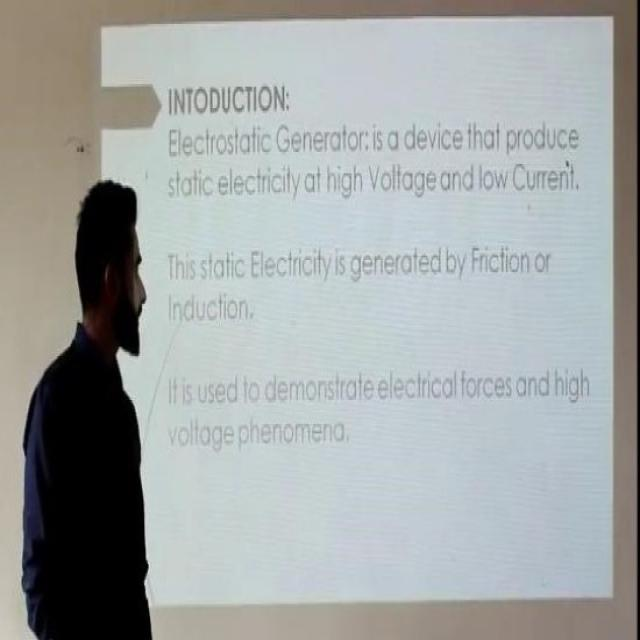Instructor: (29, 164, 160, 633)
Slide: (100, 15, 610, 611)
